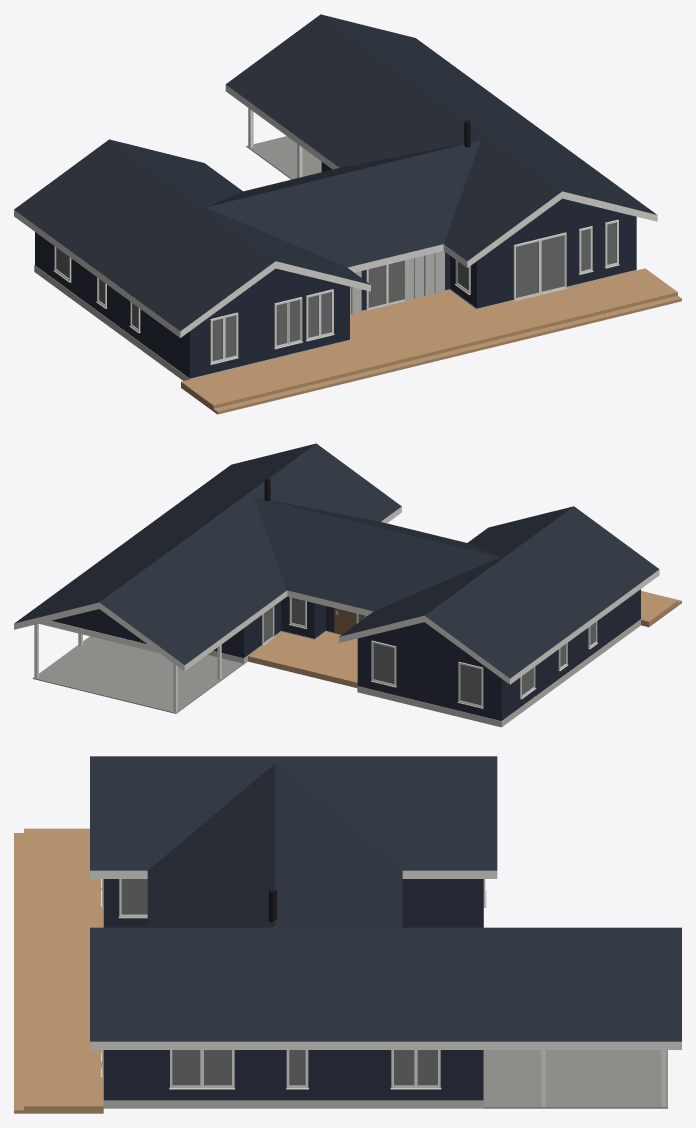
The model's file is teder_c1_p1_m0.glb.
The picture shows the model from 3 angles, top to bottom: view 1: azimuth 30°, elevation 25°; view 2: azimuth 150°, elevation 25°; view 3: azimuth 270°, elevation 25°; orthographic projection. The views are drawn at different scales.
Visible parts, largest first — view 1: roof, deck, wall, glass, curtain, fascia, frame, panel, paving, plinth; view 2: roof, wall, paving, fascia, deck, glass, curtain, plinth, frame, door; view 3: roof, deck, wall, paving, fascia, glass, curtain, plinth, frame.
Part boxes in pixels (box(x1,y1,x2,y2)): roof: box(14, 14, 656, 331); deck: box(181, 268, 681, 414); wall: box(35, 162, 636, 378); glass: box(56, 222, 616, 360); curtain: box(56, 222, 616, 360); fascia: box(14, 85, 657, 337); frame: box(53, 219, 619, 364); panel: box(350, 251, 444, 314); paving: box(246, 136, 321, 179); plinth: box(34, 265, 636, 380); roof: box(14, 443, 659, 678); wall: box(51, 589, 640, 720); paving: box(32, 636, 243, 713); fascia: box(14, 506, 659, 712); deck: box(248, 591, 681, 687); glass: box(263, 598, 595, 705); curtain: box(263, 598, 595, 704); plinth: box(207, 619, 641, 727); frame: box(262, 597, 598, 708); door: box(334, 608, 355, 634); roof: box(90, 756, 681, 1041); deck: box(14, 828, 103, 1113); wall: box(103, 879, 483, 1100); paving: box(484, 1050, 667, 1108); fascia: box(90, 870, 681, 1106); glass: box(121, 879, 437, 1085); curtain: box(121, 879, 437, 1085); plinth: box(103, 907, 483, 1108); frame: box(101, 879, 486, 1089).
Size of the model in its own units: 21.93 by 5.66 by 21.72.
14 materials, 5 textured.
